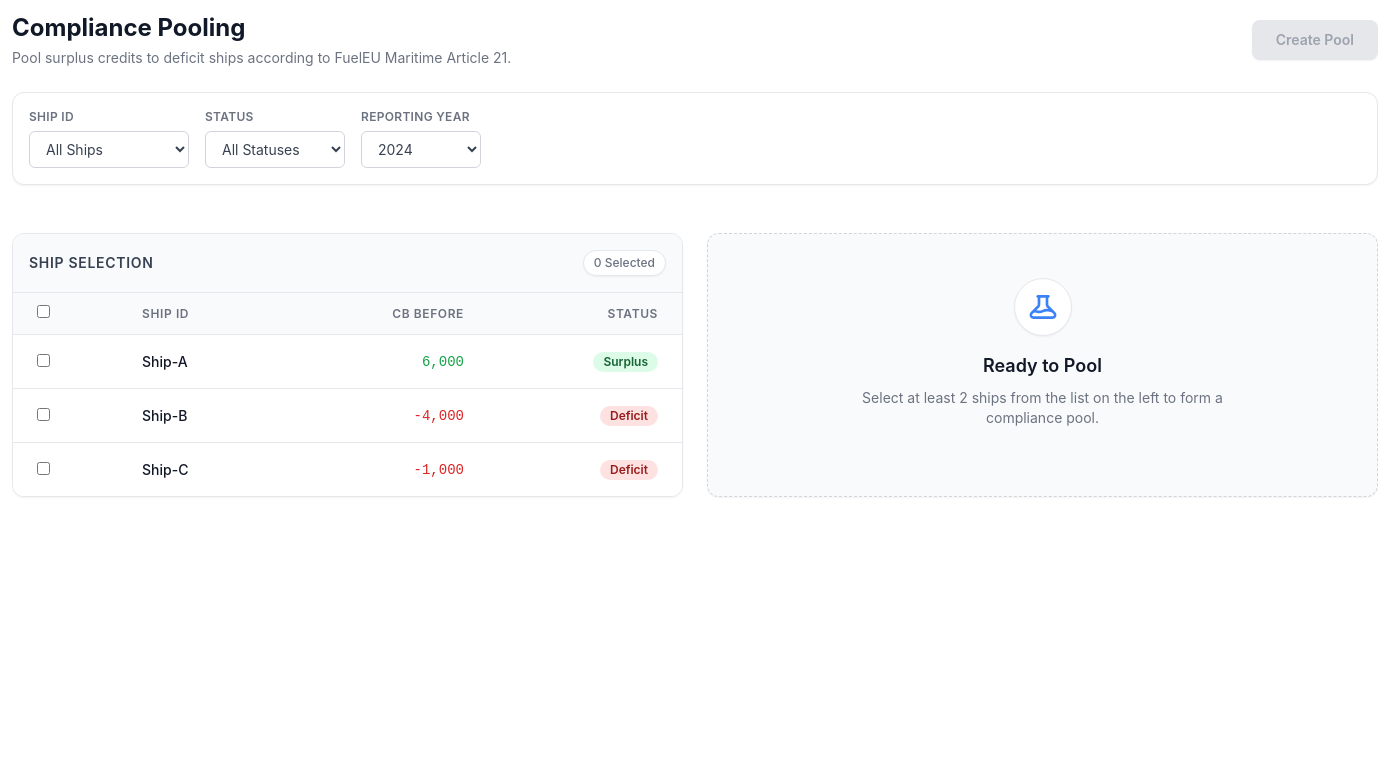
Test case: PoolingPage › creates pool and shows results
# Select all
Click the checkbox in the row of "CB Before" at x=44, y=312, box 37,305 -> 50,318
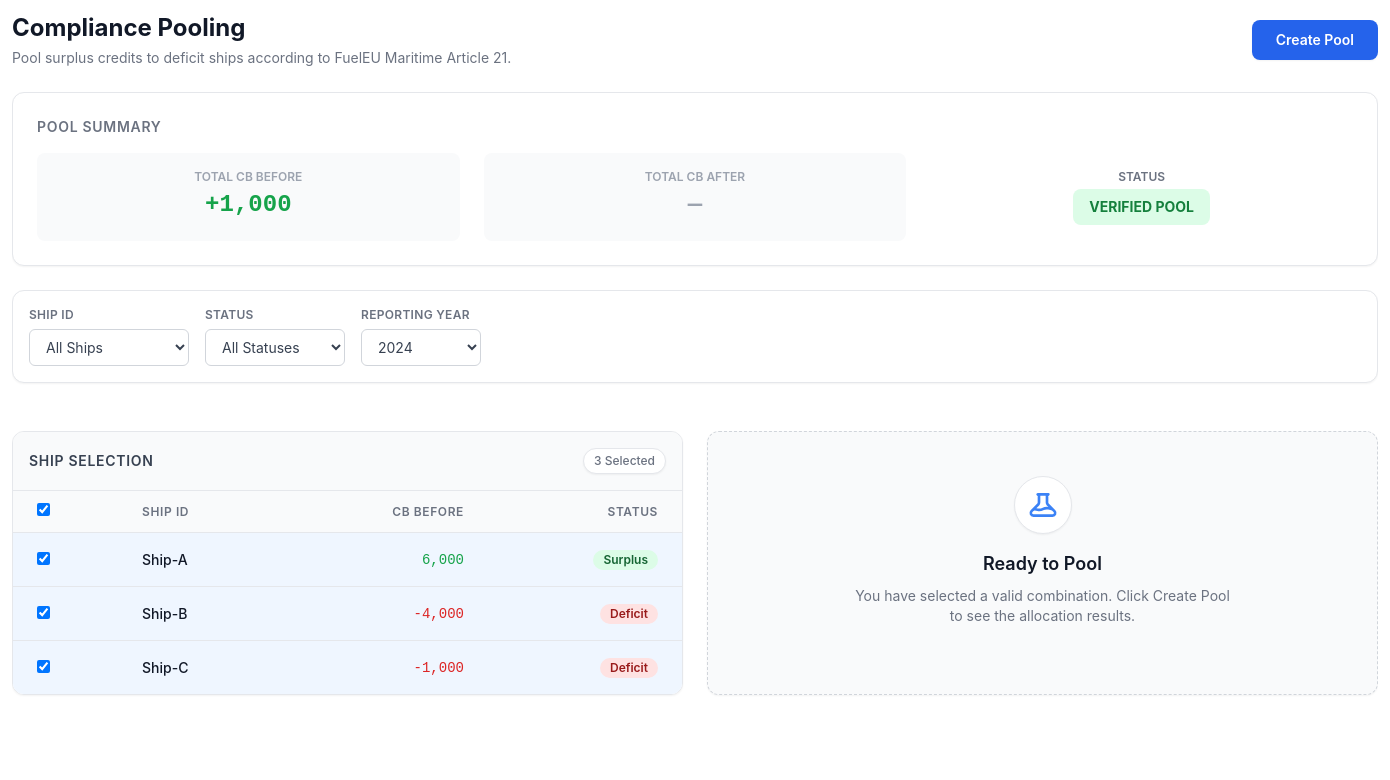
Now the button "Create Pool" is enabled
Click the button "Create Pool" at x=1315, y=40, box 1252,20 -> 1378,60
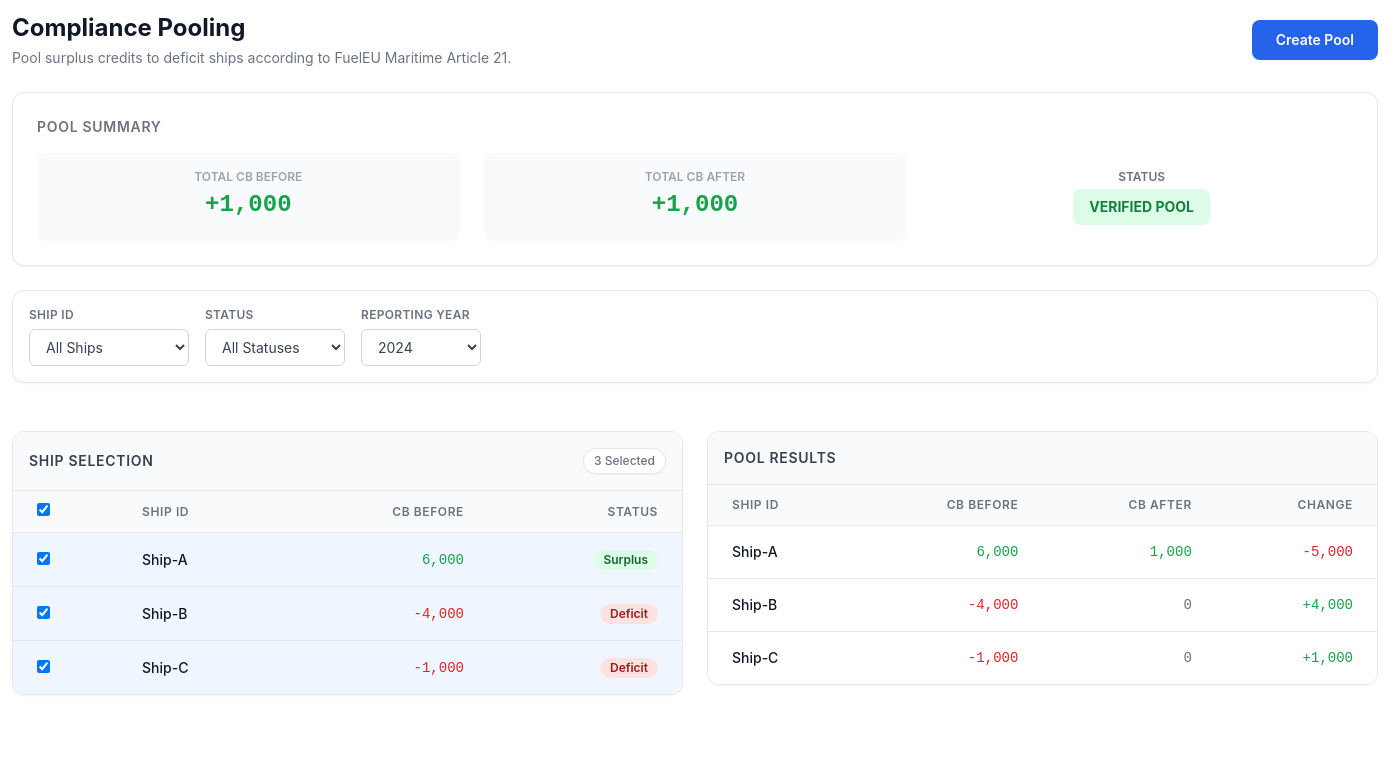
Now the heading "Pool Results" is shown, box 724,449 -> 836,466
